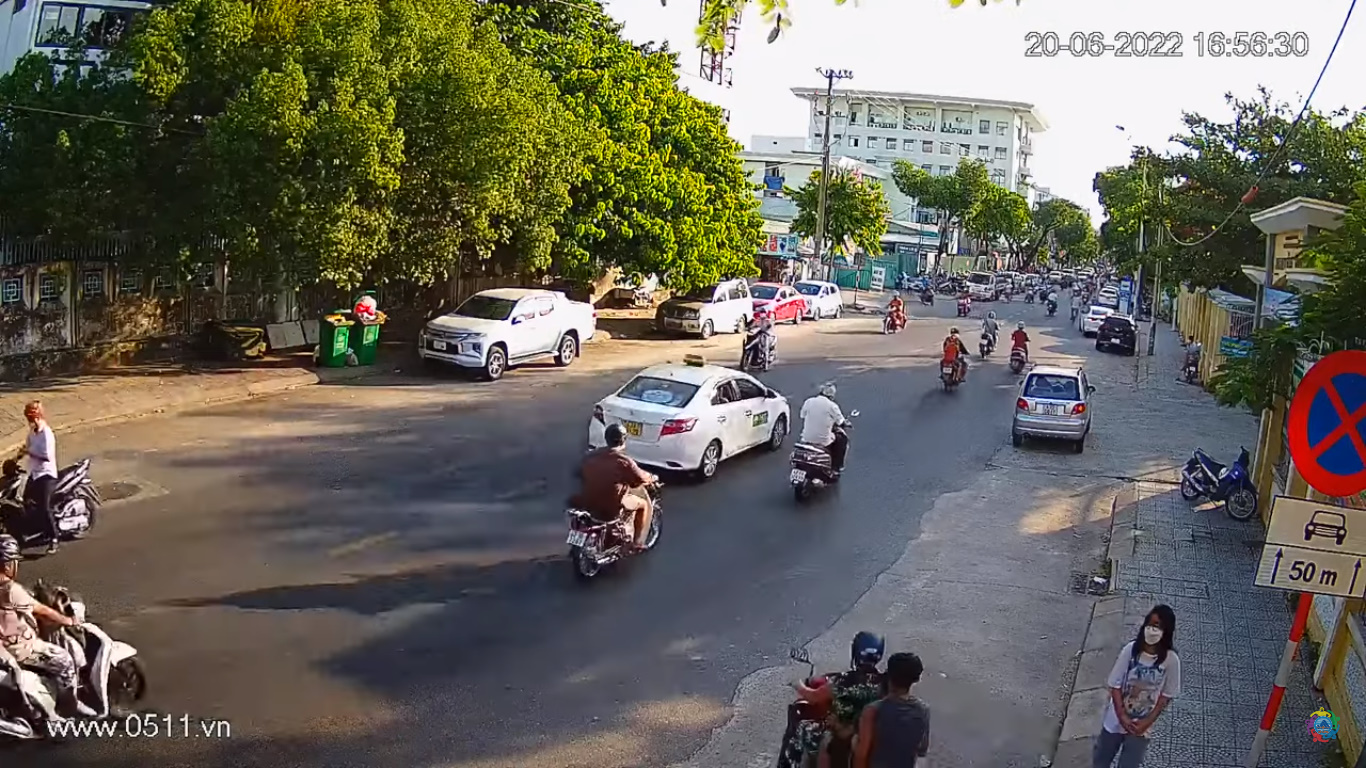car: (592, 367, 791, 483)
